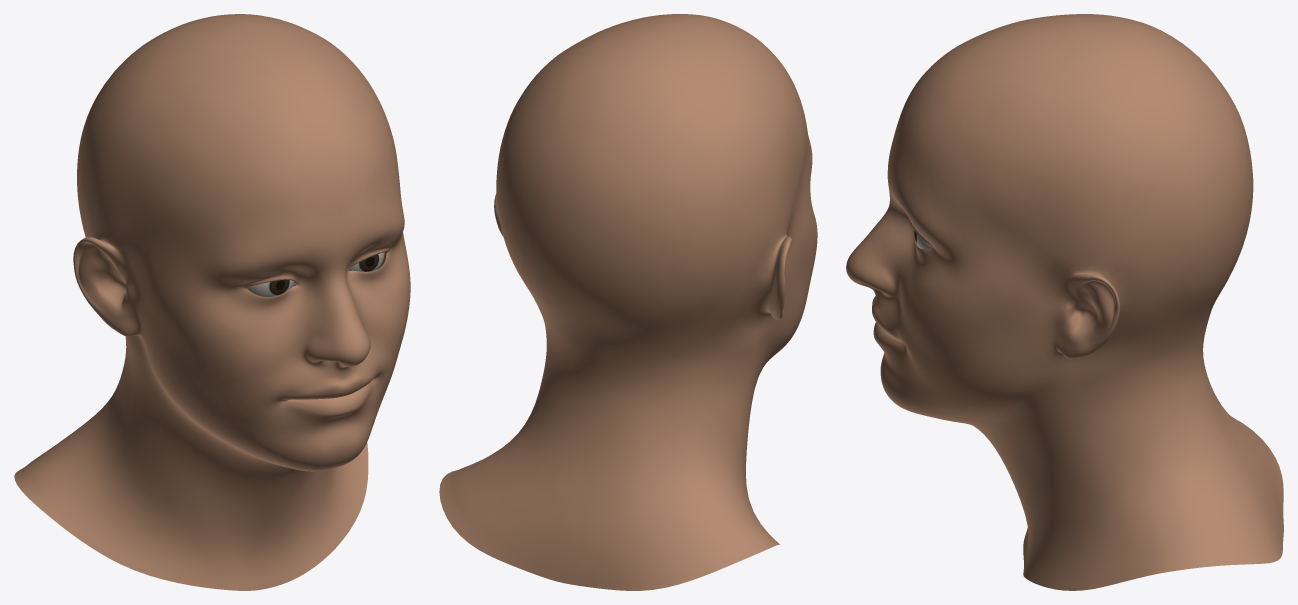
Rendered from head-anatomy-study.glb.
The picture shows the model from 3 angles, left to right: view 1: azimuth 30°, elevation 25°; view 2: azimuth 150°, elevation 25°; view 3: azimuth 270°, elevation 25°; orthographic projection. The views are drawn at different scales.
Visible parts, largest first — view 1: Ubaid_FaceBuilder_Head_Study, Eye.R; view 2: Ubaid_FaceBuilder_Head_Study; view 3: Ubaid_FaceBuilder_Head_Study.
Boxes of the visible parts, box(x1,y1,x2,y2) form: Ubaid_FaceBuilder_Head_Study: box(14, 14, 410, 590); Eye.R: box(246, 280, 293, 296); Ubaid_FaceBuilder_Head_Study: box(439, 14, 817, 590); Ubaid_FaceBuilder_Head_Study: box(846, 14, 1283, 590).
Bounding box in the file's own units: 0.1915 × 0.2968 × 0.2195.
